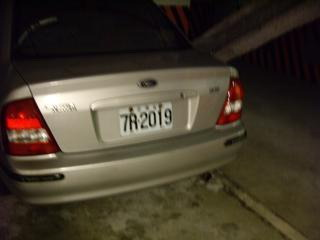plate: (117, 105, 174, 134)
